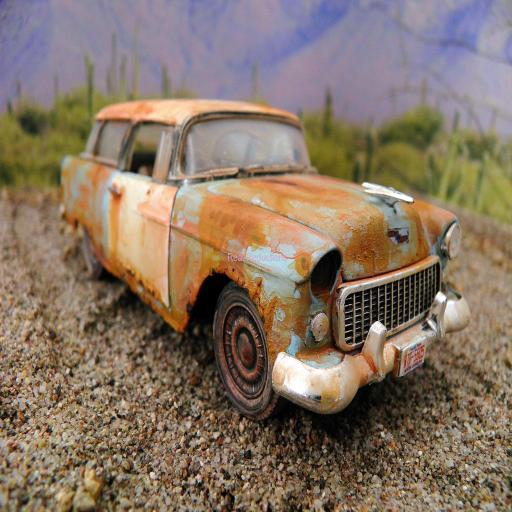segmentation: (61, 99, 470, 420)
